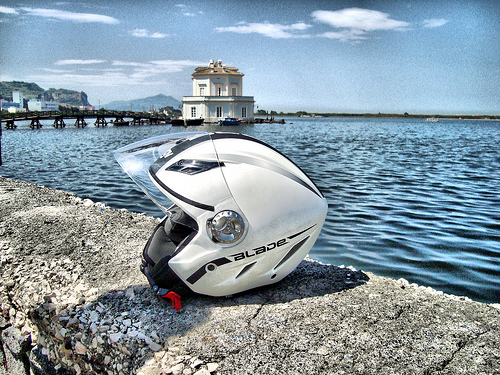helmet: (136, 142, 323, 294)
